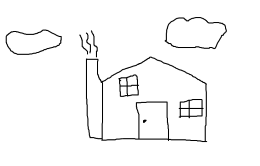closed_window: (117, 75, 139, 97), (179, 99, 202, 118)
clouds: (165, 16, 227, 49), (5, 28, 61, 55)
door: (131, 98, 172, 142)
single_line_roof: (99, 54, 207, 86)
smoking_chimney: (76, 27, 102, 86)
wall: (99, 85, 209, 143)
